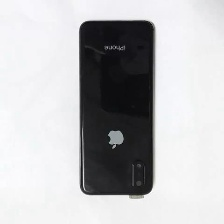phone: (76, 15, 157, 200)
